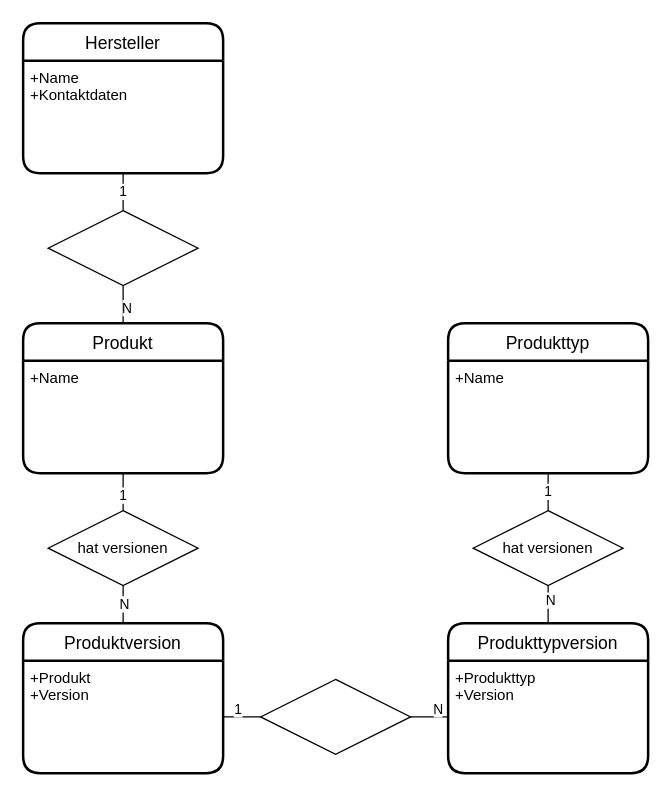
Some shapes in this 670 by 795 pixel diagram are drawn without their labels. Each missing label, with the centre of its shape:
implementiert: point 335,716
stellt her: point 122,247
